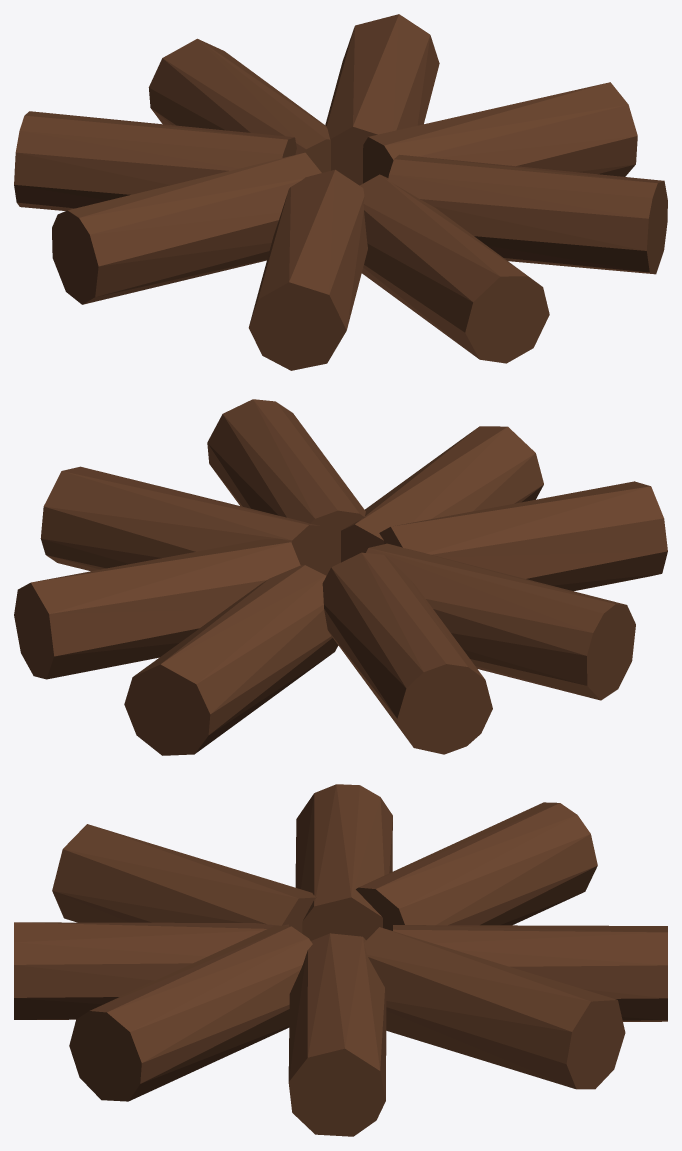
File: fireLogs.dae
The picture shows the model from 3 angles, top to bottom: view 1: azimuth 30°, elevation 25°; view 2: azimuth 150°, elevation 25°; view 3: azimuth 270°, elevation 25°; orthographic projection. The views are drawn at different scales.
Parts seen in each view (by area): view 1: Logs; view 2: Logs; view 3: Logs.
Part boxes in pixels (<box>): Logs: <box>14,14,667,370</box>; Logs: <box>14,399,667,755</box>; Logs: <box>14,784,667,1136</box>.
Size of the model in its own units: 2.3 by 2.39 by 0.433.
